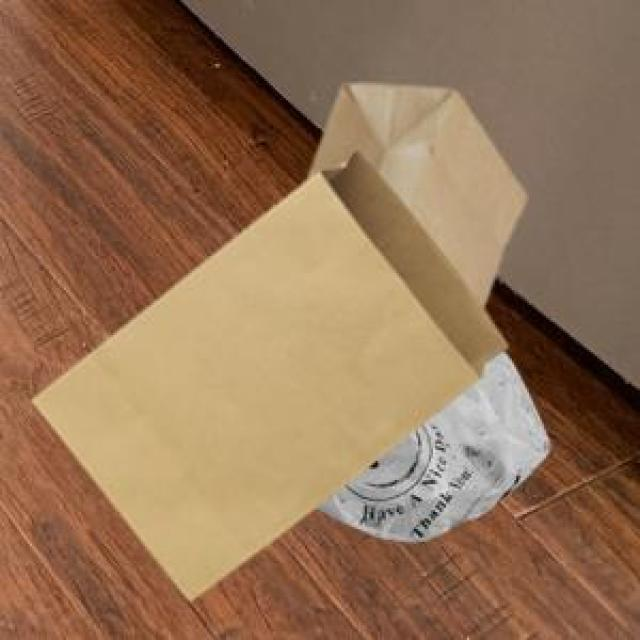paper: (28, 147, 504, 595), (305, 81, 523, 303)
